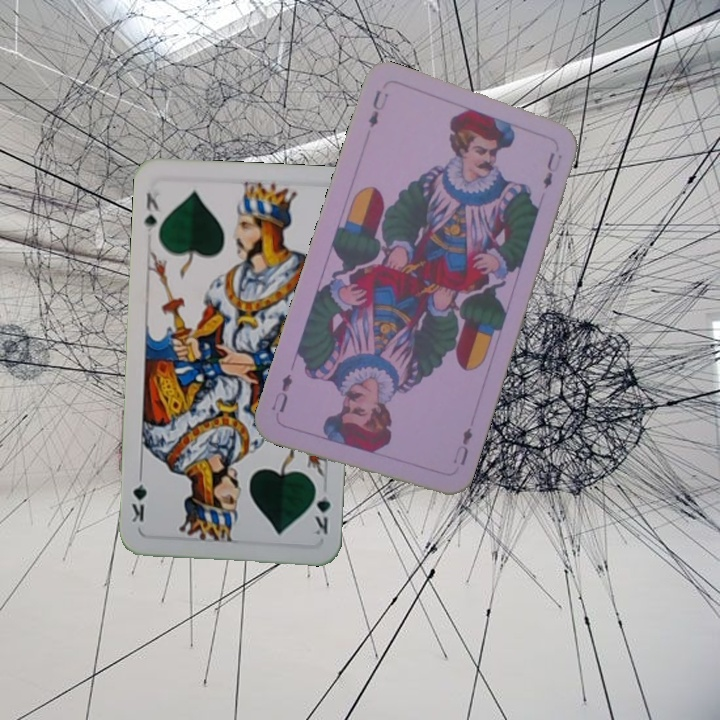EU: (364, 86, 391, 130), (449, 423, 475, 468)
GK: (309, 480, 334, 538), (139, 189, 162, 235)
